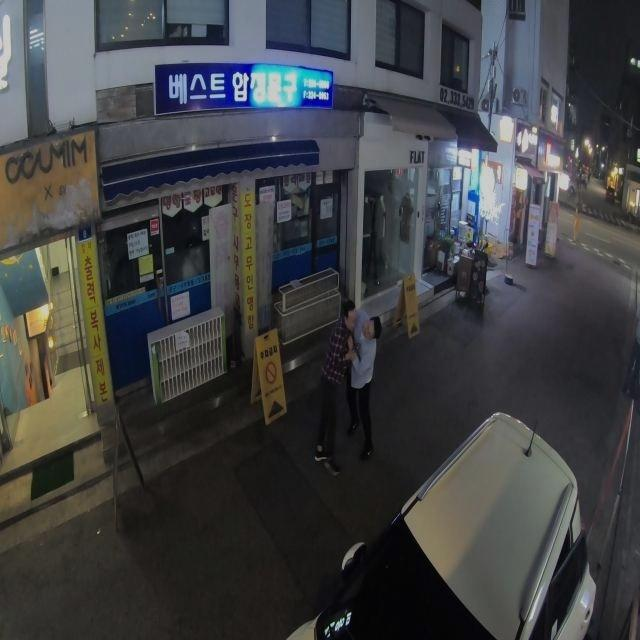fight: (316, 297, 381, 476)
